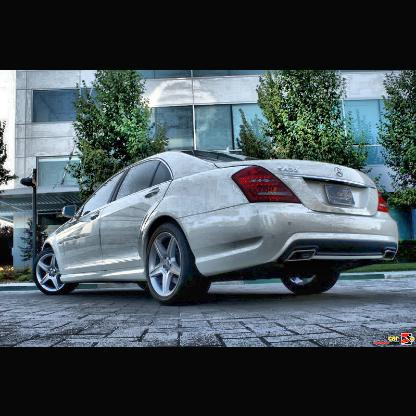Mercedes-Benz S-Class Sedan 2012: (35, 147, 399, 305)
